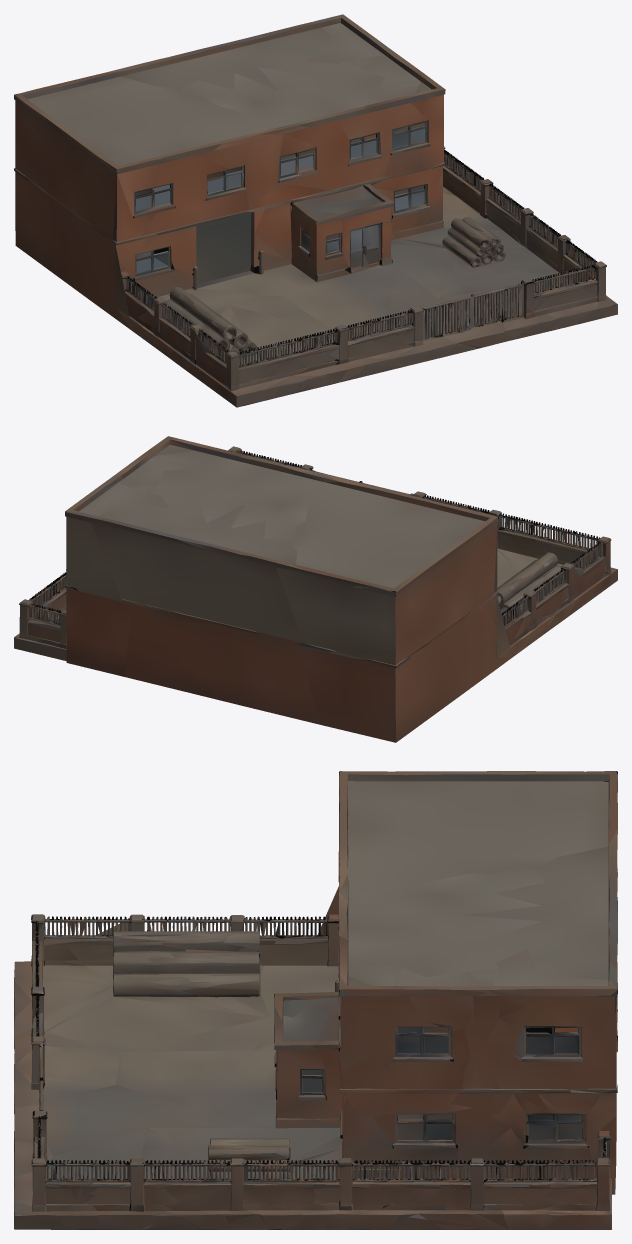
File: building_pipe_factory.glb
3 views of the same model, one above another, from view 1: azimuth 30°, elevation 25°; view 2: azimuth 150°, elevation 25°; view 3: azimuth 270°, elevation 25° (orthographic). The views are drawn at different scales.
Parts seen in each view (by area): view 1: output_unwrapped; view 2: output_unwrapped; view 3: output_unwrapped.
Part boxes in pixels (x1=…): output_unwrapped: x1=14, y1=14, x2=617, y2=407; output_unwrapped: x1=14, y1=436, x2=617, y2=742; output_unwrapped: x1=14, y1=771, x2=617, y2=1229.
Bounding box in the file's own units: 1.99 × 0.7519 × 2.
1 material, 1 textured.
